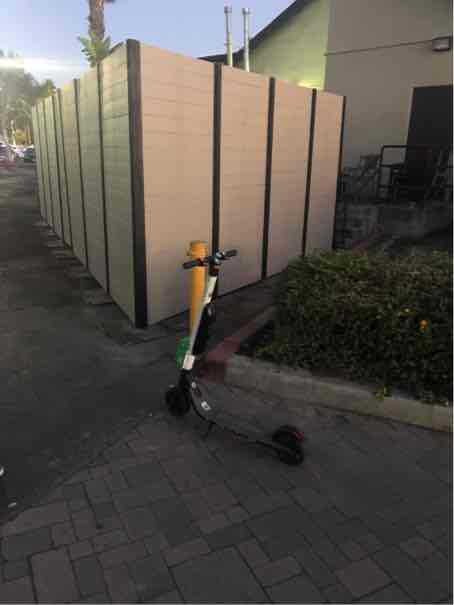scooter: (153, 242, 309, 459)
